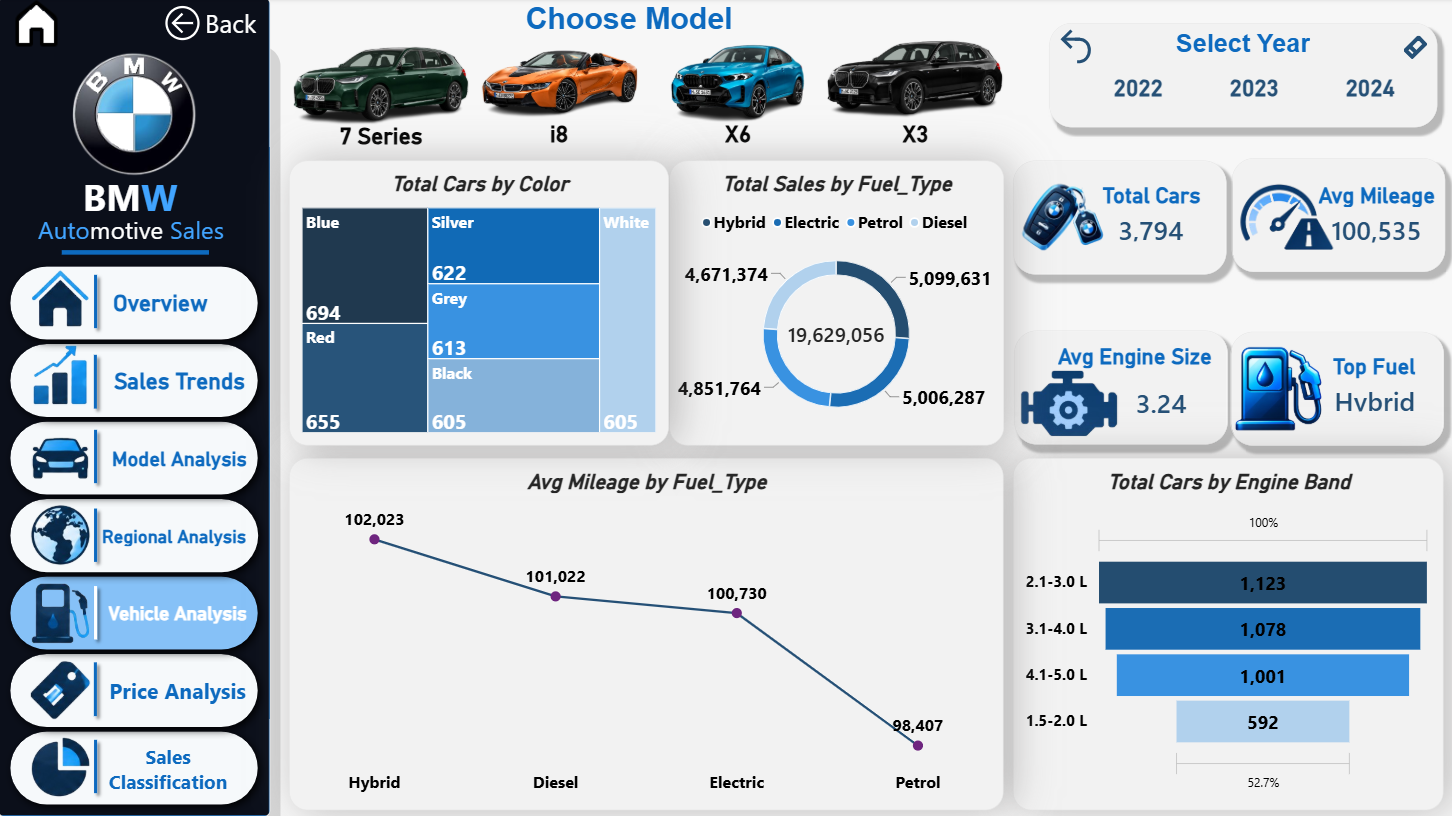

The page's visual inventory and layout, read from the dashboard file:
{"tool":"powerbi","page":{"name":"Vehicle Analysis","canvas":[1920,1080],"ordinal":5},"visuals":[{"type":"shape","box":[0,0,359.5,1080.4],"z":0},{"type":"actionButton","box":[214.3,1.8,185.2,63.6],"z":1000},{"type":"image","box":[0,0,101.7,65.4],"z":2000},{"type":"image","box":[0,39.9,359.5,227],"z":3000},{"type":"textbox","box":[112.6,229.1,148.9,79.9],"z":4000},{"type":"textbox","box":[52.7,283.6,254.2,52.7],"z":5000},{"type":"shape","box":[83.5,309,194.3,54.5],"z":6000},{"type":"shape","box":[0,951.2,358.9,128.8],"z":7000},{"type":"shape","box":[0,849.1,358.9,128.8],"z":8000},{"type":"shape","box":[0,746.8,358.9,128.8],"z":9000},{"type":"shape","box":[0,644.6,359.5,128.9],"z":10000},{"type":"shape","box":[0,542.2,358.9,128.8],"z":11000},{"type":"shape","box":[0,439.9,358.9,128.8],"z":12000},{"type":"shape","box":[-0.1,337.6,358.9,128.8],"z":13000},{"type":"image","box":[43.6,352.3,79.1,86.5],"z":14000},{"type":"shape","box":[112.6,355.9,33.1,88.3],"z":15000},{"type":"shape","box":[112.6,461.2,32.7,89],"z":16000},{"type":"image","box":[43.6,453.9,79.1,86.5],"z":17000},{"type":"shape","box":[112.6,561.1,33.1,88.3],"z":18000},{"type":"image","box":[43.6,564.7,79.1,86.5],"z":19000},{"type":"image","box":[43.6,664.6,79.1,86.5],"z":20000},{"type":"shape","box":[112.6,664.6,33.1,88.3],"z":21000},{"type":"image","box":[43.6,768.1,79.1,86.5],"z":22000},{"type":"shape","box":[112.6,766.2,33.1,88.3],"z":23000},{"type":"image","box":[43.6,869.7,79.1,86.5],"z":24000},{"type":"shape","box":[112.6,867.9,32.7,89],"z":25000},{"type":"image","box":[43.6,971.4,79.1,86.5],"z":26000},{"type":"shape","box":[112.6,969.6,33.1,88.3],"z":27000},{"type":"shape","box":[1387.2,32.7,512,138],"z":28000},{"type":"advancedSlicerVisual","fields":{"Values":["BMW_Car_Sales_Classification.Year"]},"box":[1392.7,69,501.1,101.7],"z":29000},{"type":"image","box":[379.5,40.6,254.2,136.2],"z":30000},{"type":"image","box":[614.3,39.9,254.2,136.2],"z":31000},{"type":"image","box":[849.2,41.8,254.2,136.2],"z":32000},{"type":"image","box":[1084,32.7,254.2,136.2],"z":33000},{"type":"shape","box":[690,1.8,286.9,50.8],"z":34000},{"type":"shape","box":[435.8,156.2,139.8,50.8],"z":35000},{"type":"shape","box":[708,154,65.4,50.8],"z":36000},{"type":"shape","box":[940.6,152.5,72.6,54.5],"z":37000},{"type":"shape","box":[1165.7,152.5,89,54.5],"z":38000},{"type":"shape","box":[1552.5,34.5,181.6,50.8],"z":39000},{"type":"actionButton","box":[1396.3,32.7,50.8,61.7],"z":40000},{"type":"shape","box":[1340.3,439.5,281.4,150.7],"z":41000},{"type":"card","fields":{"Values":["BMW_Car_Sales_Classification.Avg Engine Size"]},"box":[1461.7,506.6,147.1,58.1],"z":42000},{"type":"image","box":[1340,466.6,141.6,119.8],"z":43000},{"type":"shape","box":[1392.7,446.7,216.1,50.8],"z":44000},{"type":"shape","box":[1340,215,281.4,150.7],"z":45000},{"type":"image","box":[1340,214.3,127.1,134.4],"z":46000},{"type":"shape","box":[1434.4,229.5,174.3,61.7],"z":47000},{"type":"card","title":"Total Sales","fields":{"Values":["BMW_Car_Sales_Classification.Total Cars"]},"box":[1461.7,277.8,119.8,59.9],"z":48000},{"type":"shape","box":[1626.2,439.6,281.4,150.7],"z":49000},{"type":"image","box":[1626.9,453.9,136,122],"z":50000},{"type":"shape","box":[1734.5,459.6,161.6,50.8],"z":51000},{"type":"shape","box":[1628.1,211,281.4,150.7],"z":52000},{"type":"image","box":[1628.7,223.7,141.6,121.7],"z":53000},{"type":"shape","box":[1737.7,234.2,161.6,50.8],"z":54000},{"type":"card","fields":{"Values":["BMW_Car_Sales_Classification.Avg Mileage"]},"box":[1743.1,276,150.7,63.6],"z":55000},{"type":"card","fields":{"Values":["BMW_Car_Sales_Classification.Top Fuel"]},"box":[1743.1,503,147.1,58.1],"z":56000},{"type":"actionButton","box":[1844.8,39.9,52.7,50.8],"z":57000},{"type":"funnel","fields":{"Category":["BMW_Car_Sales_Classification.Engine Band"],"Y":["BMW_Car_Sales_Classification.Total Cars"]},"box":[1340,606.5,568.3,464.8],"z":58000},{"type":"slicer","fields":{"Values":["BMW_Car_Sales_Classification.Model"]},"box":[1041.6,706.9,81.6,64.8],"z":59000},{"type":"lineChart","fields":{"Category":["BMW_Car_Sales_Classification.Fuel_Type"],"Y":["BMW_Car_Sales_Classification.Avg Mileage"]},"box":[384.9,606.5,942.4,464.8],"z":60000},{"type":"donutChart","fields":{"Category":["BMW_Car_Sales_Classification.Fuel_Type"],"Y":["BMW_Car_Sales_Classification.Total Sales"]},"box":[886.1,214.3,441.2,375.9],"z":61000},{"type":"treemap","fields":{"Group":["BMW_Car_Sales_Classification.Color"],"Values":["BMW_Car_Sales_Classification.Total Cars"]},"box":[384.9,214.3,501.1,375.9],"z":62000}]}

Visuals, with their boxes in screenshot pixels (x1, y1, x2, y2), scaled from the page's 1920x1080 canvas onto the 1452x816 screenshot:
shape: l=0, t=0, r=272, b=815
actionButton: l=162, t=1, r=302, b=49
image: l=0, t=0, r=77, b=49
image: l=0, t=30, r=272, b=202
textbox: l=85, t=173, r=198, b=233
textbox: l=40, t=214, r=232, b=254
shape: l=63, t=233, r=210, b=275
shape: l=0, t=719, r=271, b=815
shape: l=0, t=642, r=271, b=739
shape: l=0, t=564, r=271, b=662
shape: l=0, t=487, r=272, b=584
shape: l=0, t=410, r=271, b=507
shape: l=0, t=332, r=271, b=430
shape: l=0, t=255, r=271, b=352
image: l=33, t=266, r=93, b=332
shape: l=85, t=269, r=110, b=336
shape: l=85, t=348, r=110, b=416
image: l=33, t=343, r=93, b=408
shape: l=85, t=424, r=110, b=491
image: l=33, t=427, r=93, b=492
image: l=33, t=502, r=93, b=567
shape: l=85, t=502, r=110, b=569
image: l=33, t=580, r=93, b=646
shape: l=85, t=579, r=110, b=646
image: l=33, t=657, r=93, b=722
shape: l=85, t=656, r=110, b=723
image: l=33, t=734, r=93, b=799
shape: l=85, t=733, r=110, b=799
shape: l=1049, t=25, r=1436, b=129
advancedSlicerVisual - BMW_Car_Sales_Classification.Year: l=1053, t=52, r=1432, b=129
image: l=287, t=31, r=479, b=134
image: l=465, t=30, r=657, b=133
image: l=642, t=32, r=834, b=134
image: l=820, t=25, r=1012, b=128
shape: l=522, t=1, r=739, b=40
shape: l=330, t=118, r=435, b=156
shape: l=535, t=116, r=585, b=155
shape: l=711, t=115, r=766, b=156
shape: l=882, t=115, r=949, b=156
shape: l=1174, t=26, r=1311, b=64
actionButton: l=1056, t=25, r=1094, b=71
shape: l=1014, t=332, r=1226, b=446
card - BMW_Car_Sales_Classification.Avg Engine Size: l=1105, t=383, r=1217, b=427
image: l=1013, t=353, r=1120, b=443
shape: l=1053, t=338, r=1217, b=376
shape: l=1013, t=162, r=1226, b=276
image: l=1013, t=162, r=1109, b=263
shape: l=1085, t=173, r=1217, b=220
"Total Sales" card: l=1105, t=210, r=1196, b=255
shape: l=1230, t=332, r=1443, b=446
image: l=1230, t=343, r=1333, b=435
shape: l=1312, t=347, r=1434, b=386
shape: l=1231, t=159, r=1444, b=273
image: l=1232, t=169, r=1339, b=261
shape: l=1314, t=177, r=1436, b=215
card - BMW_Car_Sales_Classification.Avg Mileage: l=1318, t=209, r=1432, b=257
card - BMW_Car_Sales_Classification.Top Fuel: l=1318, t=380, r=1429, b=424
actionButton: l=1395, t=30, r=1435, b=69
funnel - BMW_Car_Sales_Classification.Engine Band x BMW_Car_Sales_Classification.Total Cars: l=1013, t=458, r=1443, b=809
slicer - BMW_Car_Sales_Classification.Model: l=788, t=534, r=849, b=583
lineChart - BMW_Car_Sales_Classification.Fuel_Type x BMW_Car_Sales_Classification.Avg Mileage: l=291, t=458, r=1004, b=809
donutChart - BMW_Car_Sales_Classification.Fuel_Type x BMW_Car_Sales_Classification.Total Sales: l=670, t=162, r=1004, b=446
treemap - BMW_Car_Sales_Classification.Color x BMW_Car_Sales_Classification.Total Cars: l=291, t=162, r=670, b=446
